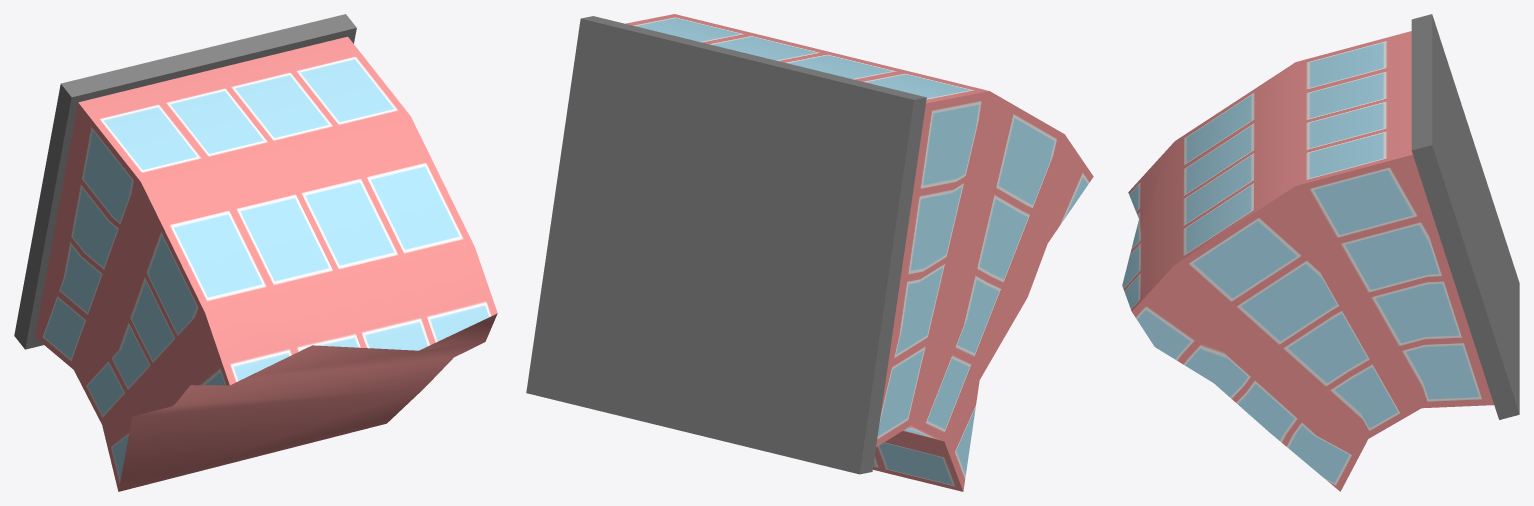
The model's file is Gedung_T.fbx.
The picture shows the model from 3 angles, left to right: view 1: azimuth 30°, elevation 25°; view 2: azimuth 150°, elevation 25°; view 3: azimuth 270°, elevation 25°; orthographic projection. The views are drawn at different scales.
Parts seen in each view (by area): view 1: Gedung_T; view 2: Gedung_T; view 3: Gedung_T.
Boxes of the visible parts, box(x1,y1,x2,y2) form: Gedung_T: box(14, 14, 497, 491); Gedung_T: box(526, 14, 1093, 491); Gedung_T: box(1122, 14, 1519, 491).
Size of the model in its own units: 943 by 1181 by 1209.
